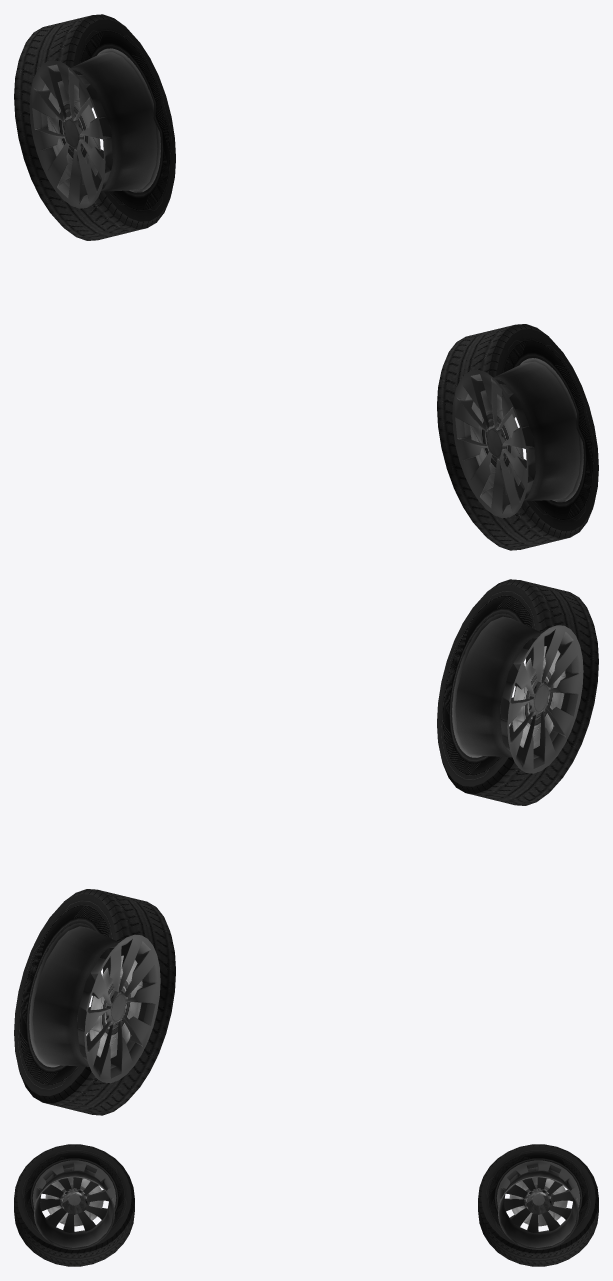
Rendered from Jeep2Tire.fbx.
The picture shows the model from 3 angles, top to bottom: view 1: azimuth 30°, elevation 25°; view 2: azimuth 150°, elevation 25°; view 3: azimuth 270°, elevation 25°; orthographic projection. The views are drawn at different scales.
Visible parts, largest first — view 1: Wheels_RR_LOD0, Wheels_FR_LOD0; view 2: Wheels_FR_LOD0, Wheels_RR_LOD0; view 3: Wheels_RR_LOD0, Wheels_FR_LOD0.
Part boxes in pixels (bbox=[...]): Wheels_RR_LOD0: bbox=[14, 14, 175, 240]; Wheels_FR_LOD0: bbox=[437, 324, 598, 550]; Wheels_FR_LOD0: bbox=[437, 579, 598, 805]; Wheels_RR_LOD0: bbox=[14, 889, 175, 1115]; Wheels_RR_LOD0: bbox=[478, 1144, 598, 1266]; Wheels_FR_LOD0: bbox=[14, 1144, 134, 1266].
Size of what is drawn, in the model's own units: 9.42 by 30.63 by 149.
